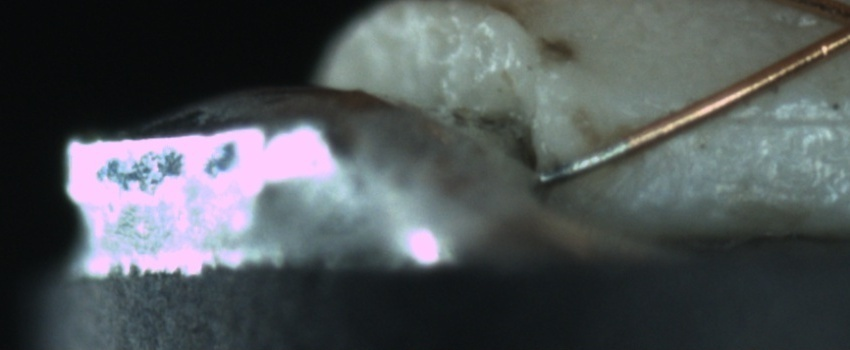CL: (812, 2, 850, 47)
DL: (700, 86, 850, 151)
TS: (531, 136, 626, 182)
